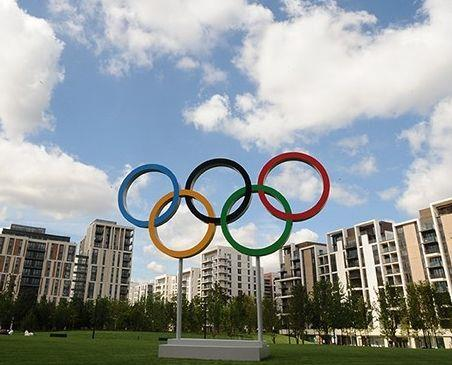Olympic_rings: (116, 154, 332, 258)
